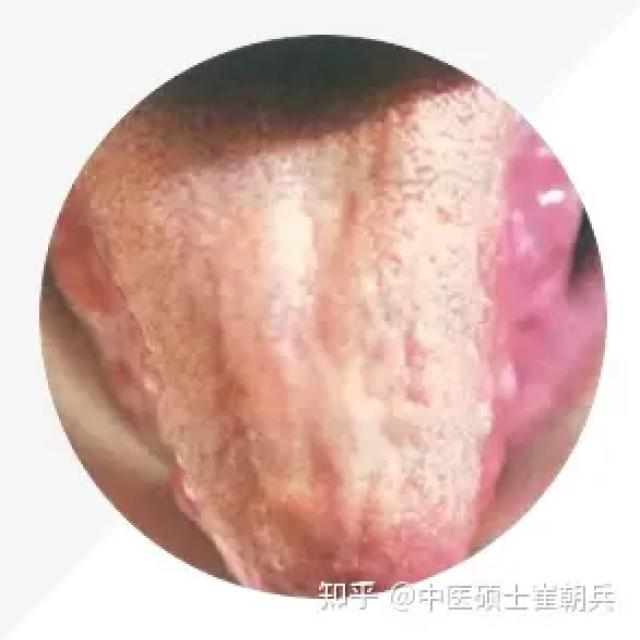tongue: (42, 107, 595, 575)
